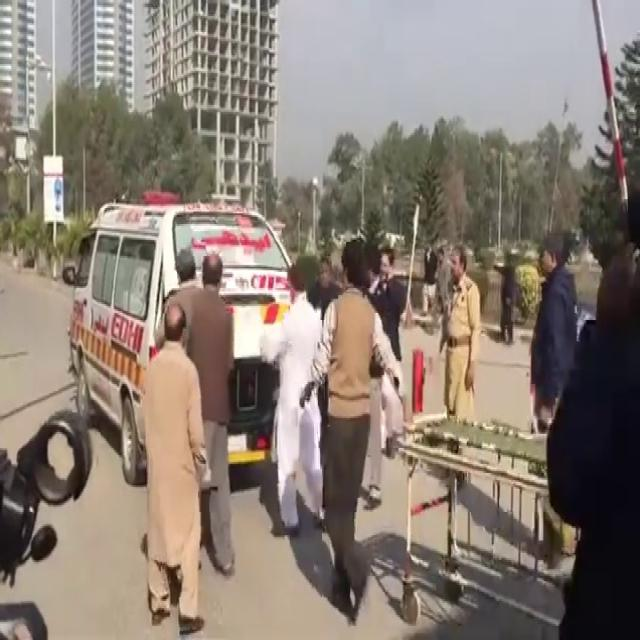ambulance: (74, 194, 325, 469)
